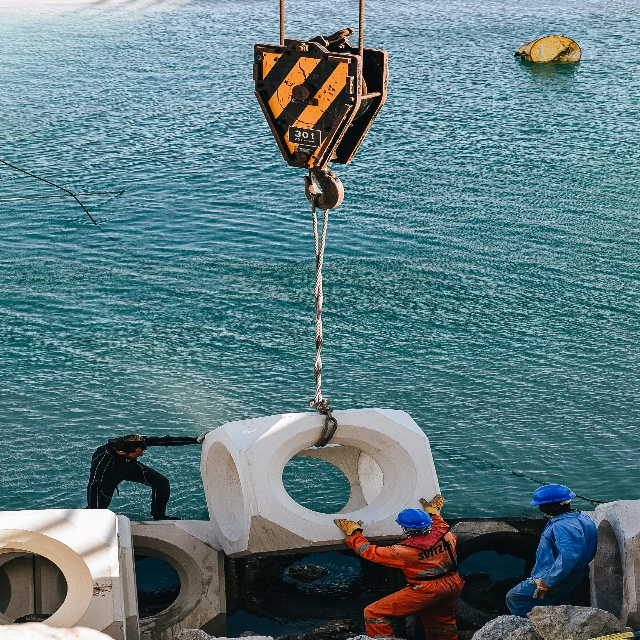Guantes: (418, 491, 445, 517), (333, 515, 364, 537), (529, 577, 555, 601), (195, 429, 211, 443)
